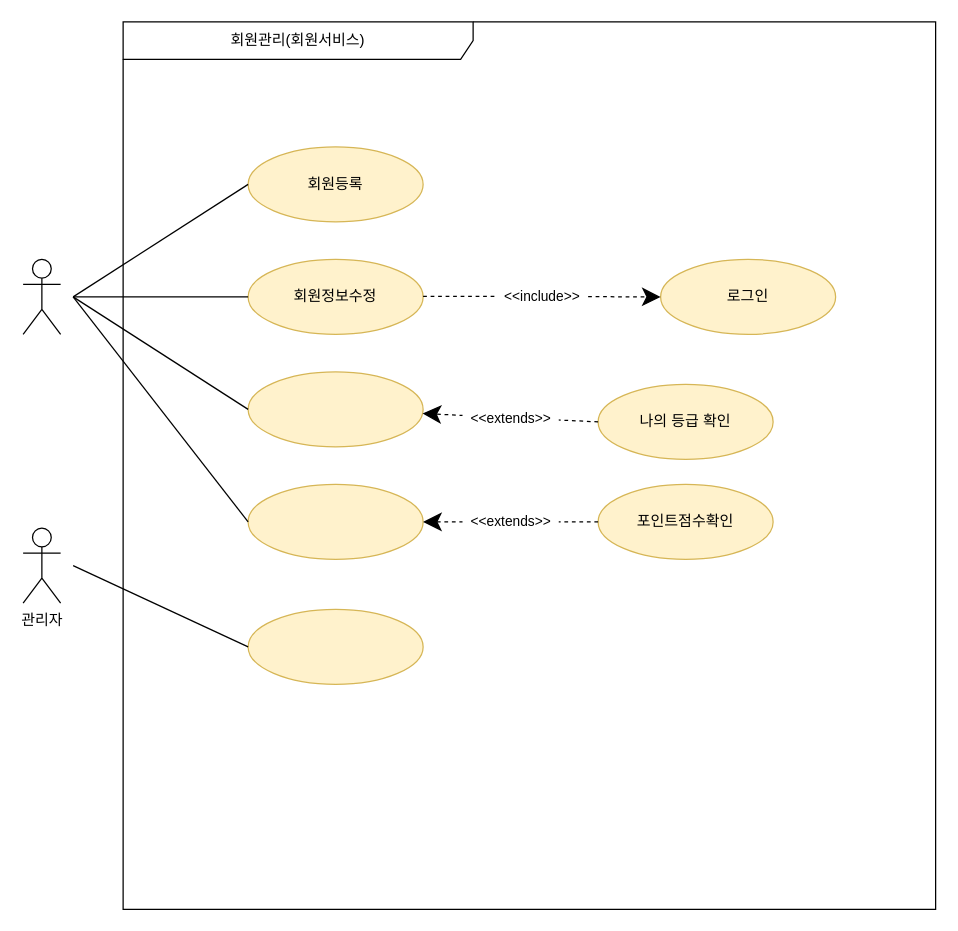
The diagram is 958 pixels wide and 931 high, and some of its shapes have lost their labels. The box of each missing label's shape, as (x1, y1, x2, y2) in pixels:
이용자: (22, 258, 61, 334)
전체회원조회: (247, 608, 423, 684)
회원정보조회: (247, 483, 423, 559)
회원탈퇴: (247, 371, 423, 447)
